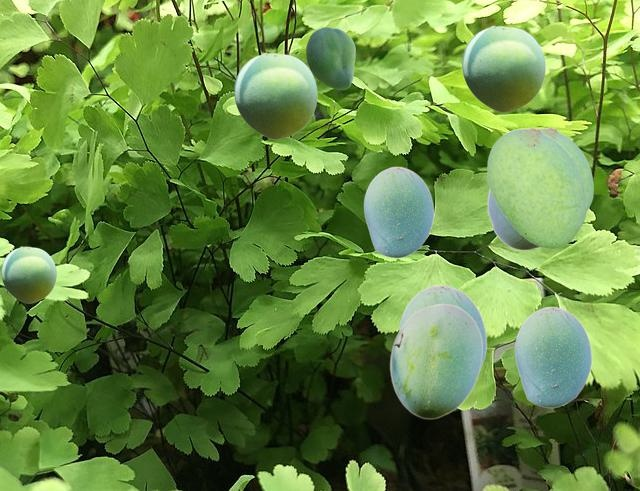green_mango: (487, 127, 585, 247), (389, 303, 482, 418), (514, 306, 591, 407), (398, 284, 486, 369), (462, 25, 544, 111), (234, 52, 316, 138), (363, 166, 433, 257), (541, 127, 592, 213), (487, 189, 539, 249), (1, 246, 55, 302), (306, 27, 354, 88)
